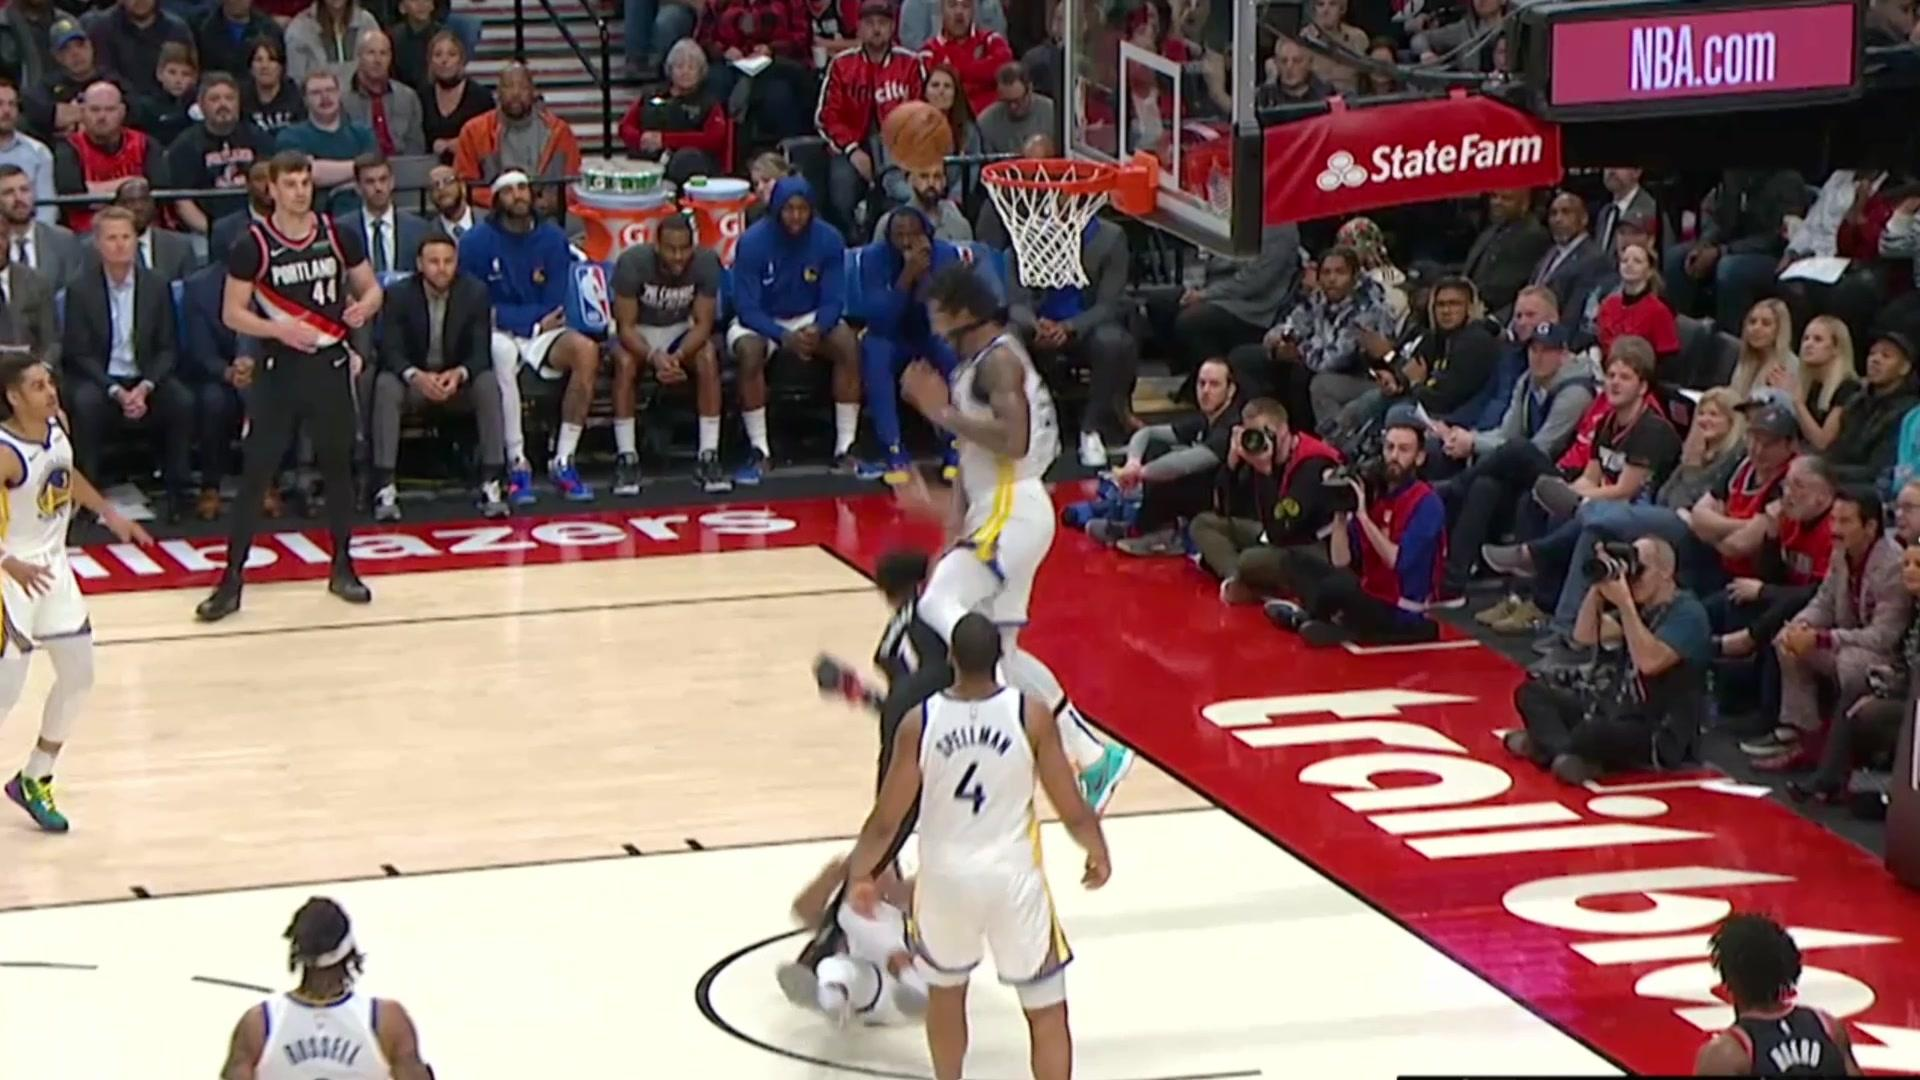no_foul: (824, 527, 943, 1046)
